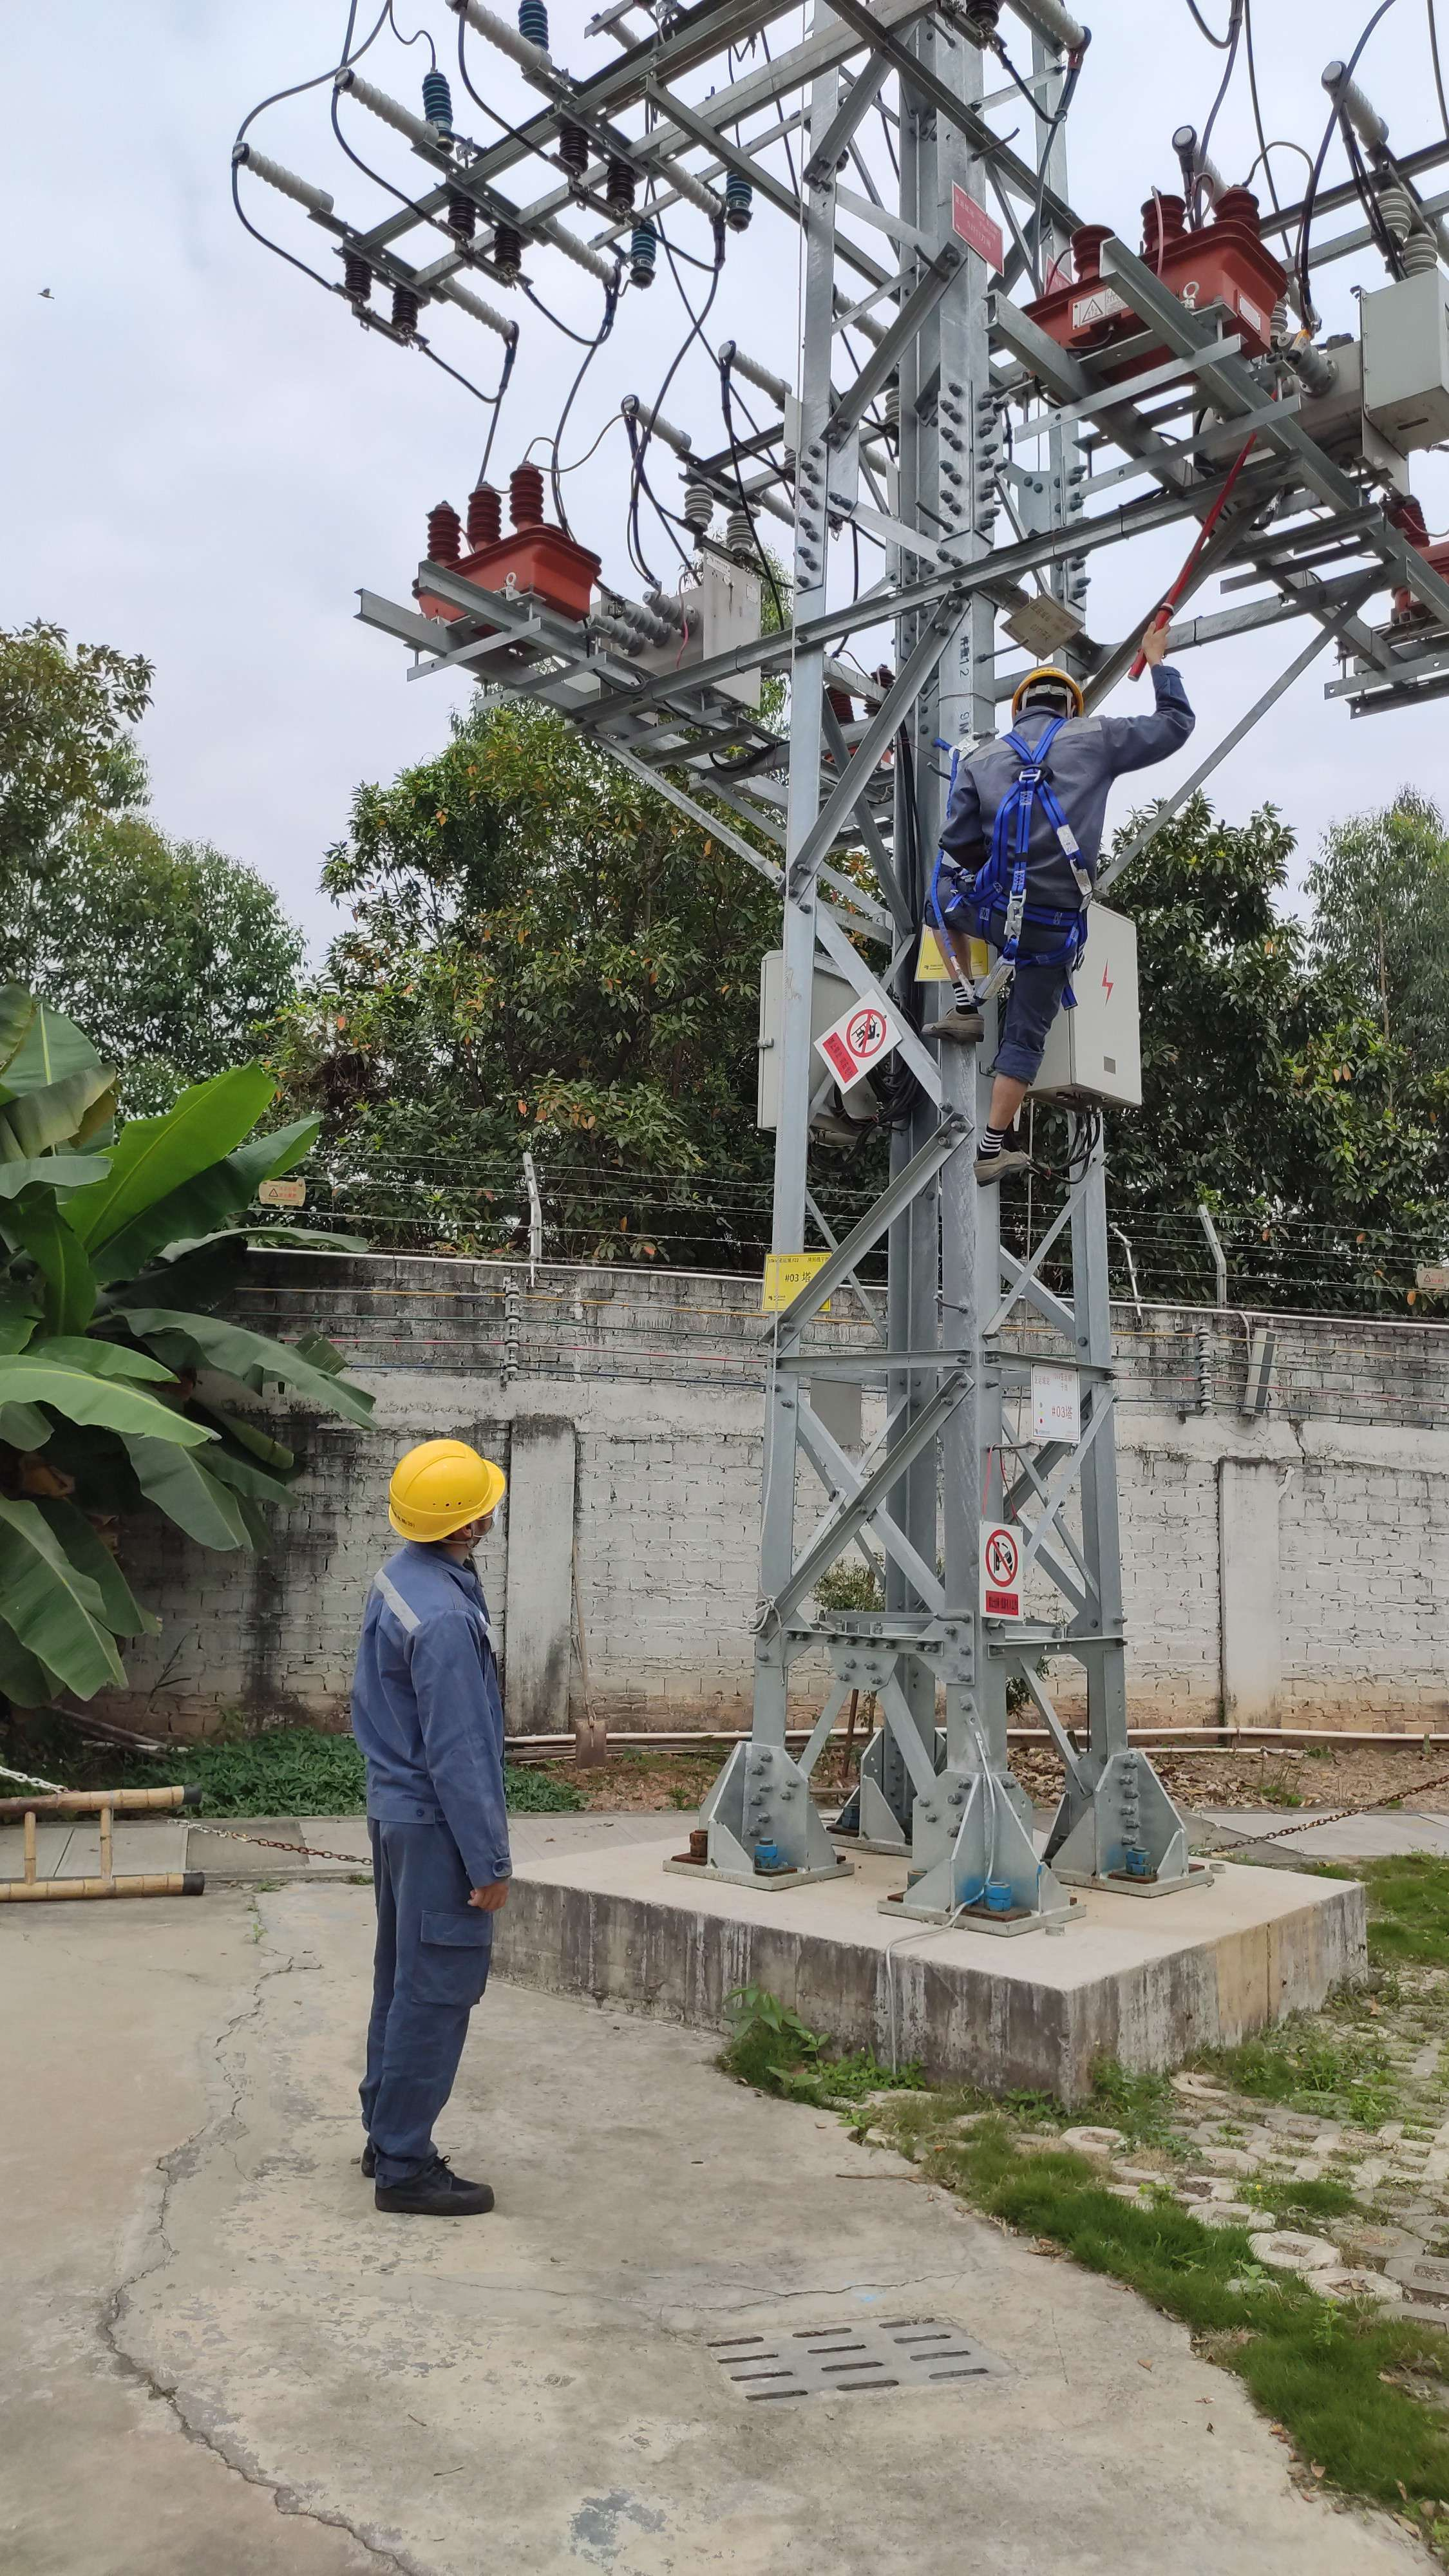downsuit: (356, 1812, 513, 2150), (916, 888, 1090, 1109)
upsuit: (338, 1550, 531, 1893), (938, 679, 1187, 918)
wrongbottom: (977, 1060, 1037, 1154)
